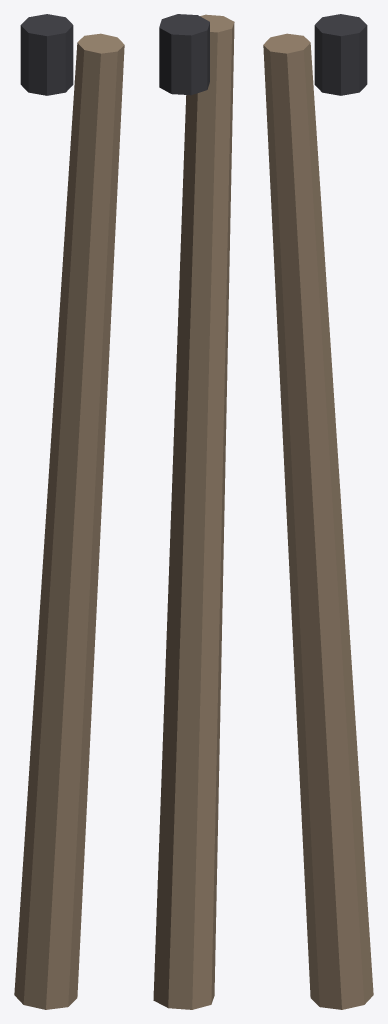
File: VN_Palo.fbx
3 renders of one model, left to right at view 1: azimuth 90°, elevation 25°; view 2: azimuth 150°, elevation 25°; view 3: azimuth 270°, elevation 25°, orthographic.
Visible parts, largest first — view 1: VN_Palo; view 2: VN_Palo; view 3: VN_Palo.
Part boxes in pixels (bbox=[...]): VN_Palo: bbox=[14, 14, 124, 1009]; VN_Palo: bbox=[153, 14, 234, 1009]; VN_Palo: bbox=[263, 14, 373, 1009].
Size of the model in its own units: 0.24 by 4.08 by 0.4191.
